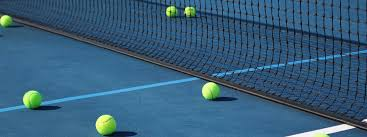tennis_ball: (95, 114, 117, 136), (22, 89, 42, 110), (201, 82, 220, 101), (165, 5, 178, 18), (183, 5, 195, 18), (1, 14, 13, 27)
